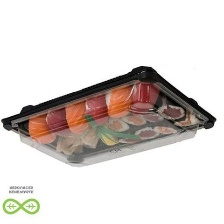plastic_box: (0, 59, 220, 173)
